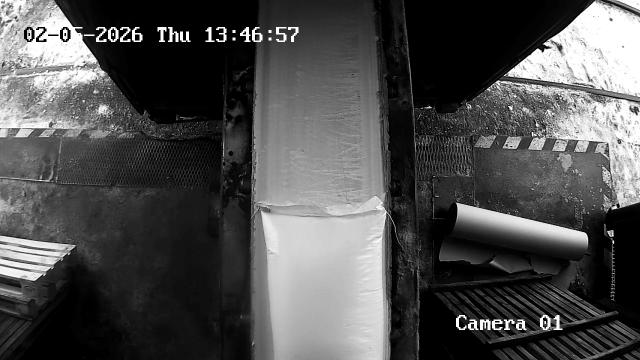bag: (258, 196, 384, 360)
